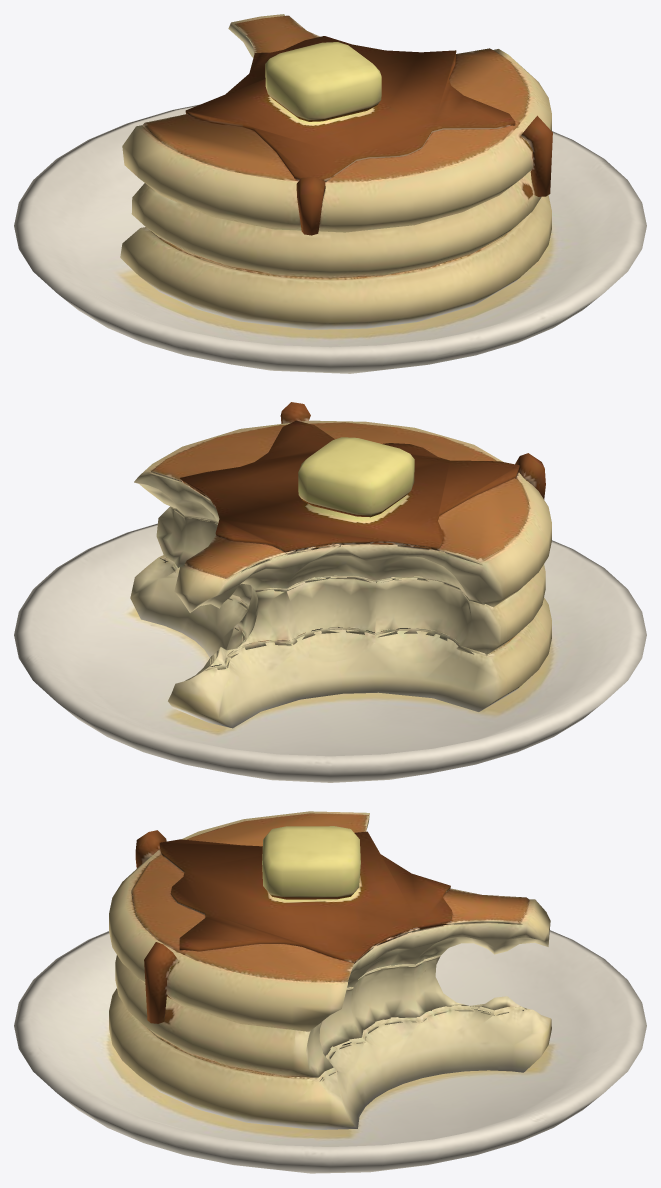
The model's file is hotcake_b2.glb.
3 views of the same model, one above another, from view 1: azimuth 30°, elevation 25°; view 2: azimuth 150°, elevation 25°; view 3: azimuth 270°, elevation 25° (orthographic).
Parts seen in each view (by area): view 1: prop_hotcake_b2_felt; view 2: prop_hotcake_b2_felt; view 3: prop_hotcake_b2_felt.
Part boxes in pixels (x1,y1,x2,y2): prop_hotcake_b2_felt: (14, 14, 646, 373); prop_hotcake_b2_felt: (14, 402, 646, 782); prop_hotcake_b2_felt: (14, 811, 646, 1173).
Bounding box in the file's own units: 0.3 × 0.1193 × 0.3.
1 material, 1 textured.
